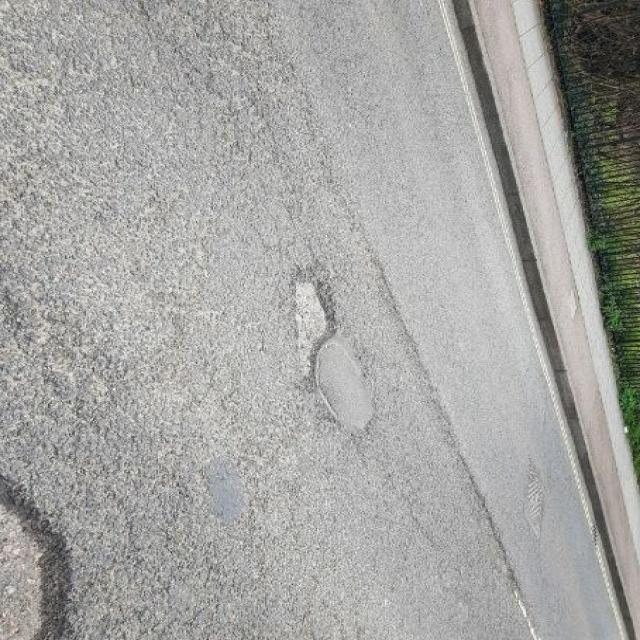pothole: (4, 456, 83, 639), (280, 261, 347, 378)
